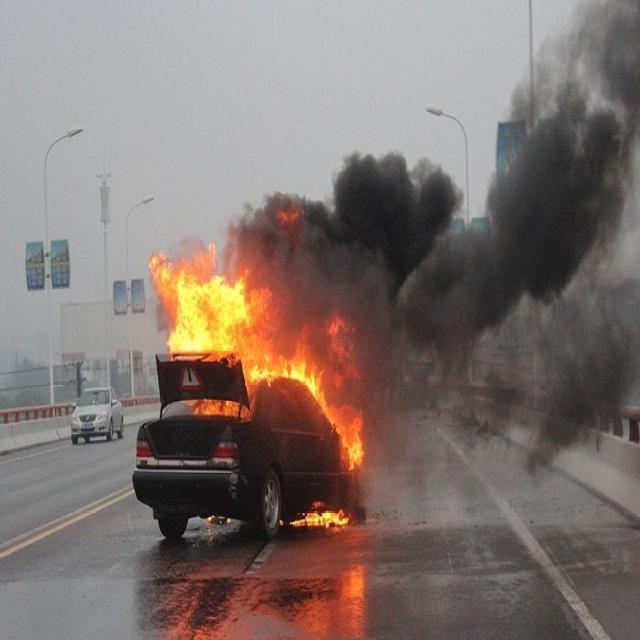Fire: (148, 241, 364, 473), (286, 497, 352, 533)
Smoke: (365, 1, 640, 491), (245, 143, 366, 304)
